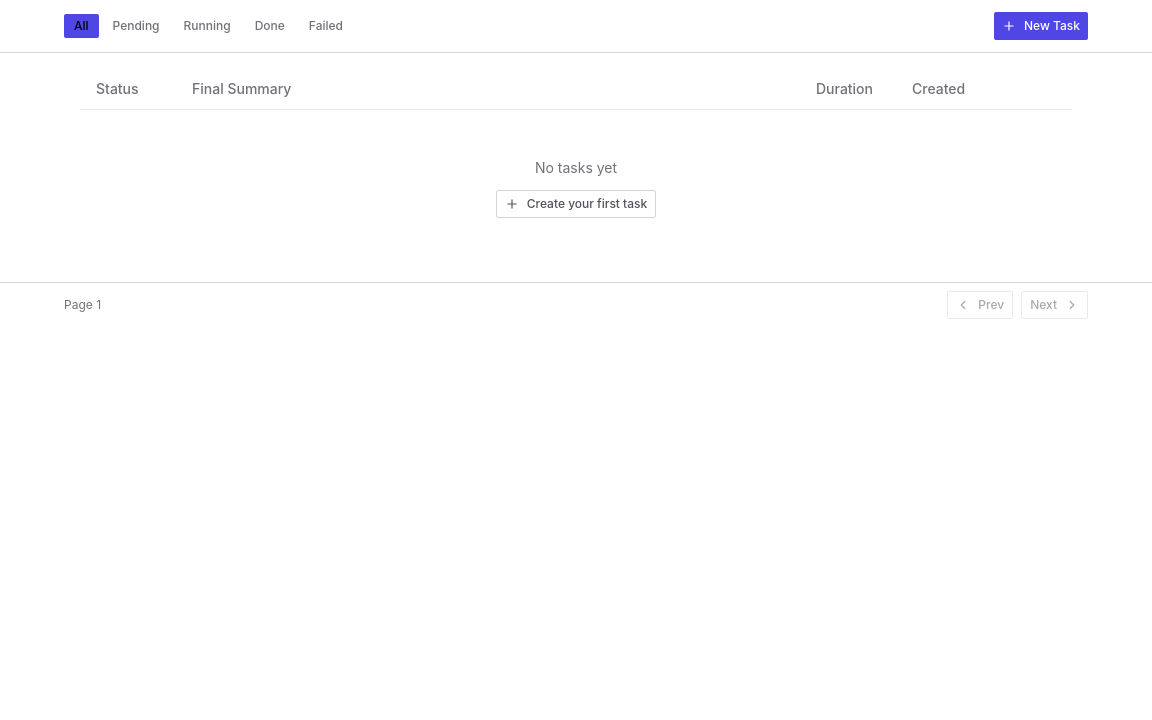
command list page › shows the empty state and opens the new-task sheet from it
This screenshot has width=1152, height=720.
Expected: the text "No tasks yet" is shown, [535, 158, 617, 178]
Click the button "Create your first task" at {"x": 576, "y": 204}, box [496, 190, 656, 218]
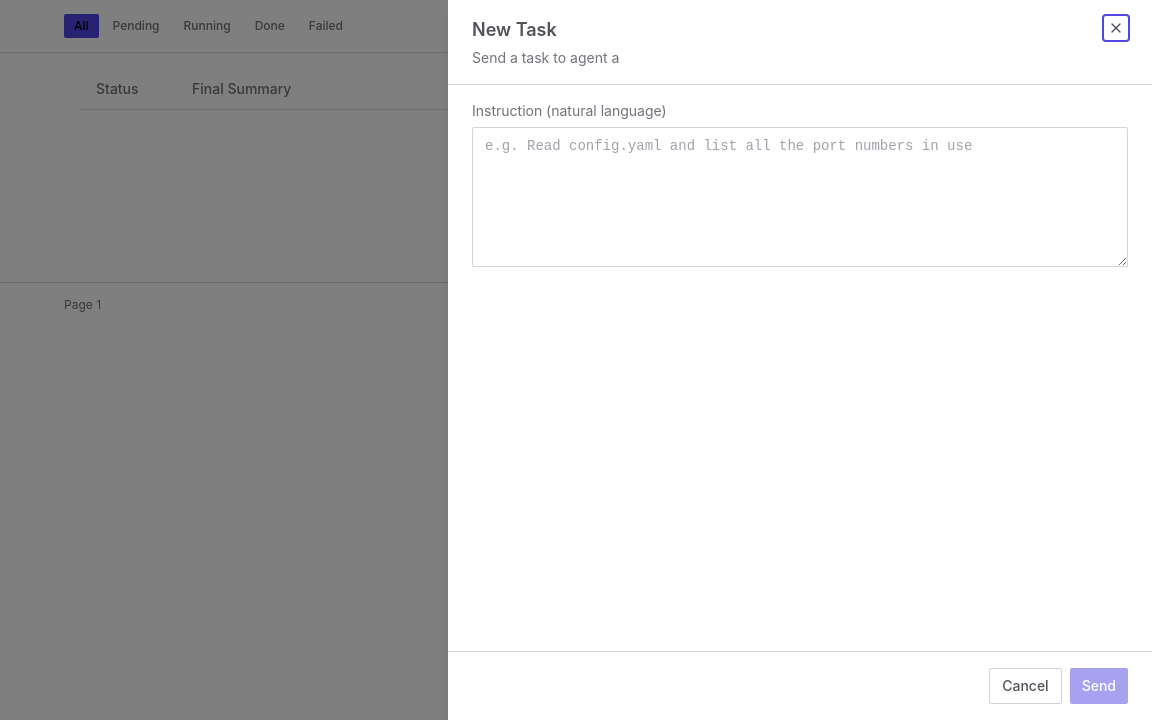
Result: the text "Send a task to agent a" is shown at [472, 49, 619, 66]
